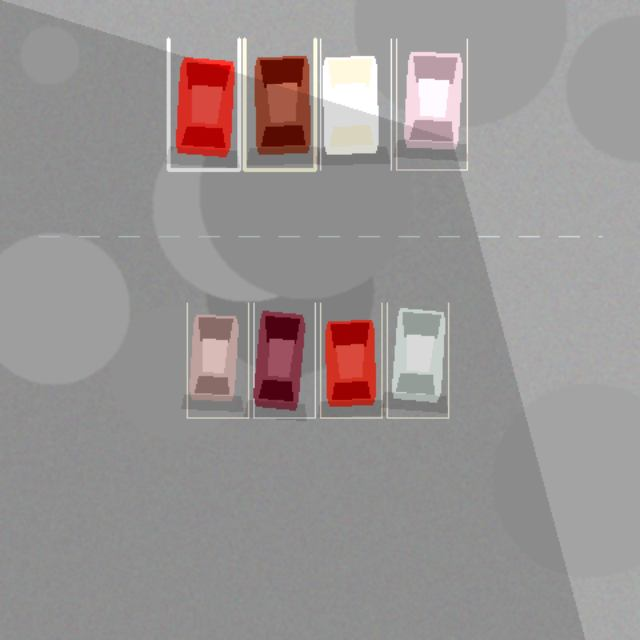space-occupied: (168, 39, 239, 169), (244, 39, 315, 169), (320, 39, 391, 169), (396, 39, 467, 169), (253, 303, 315, 417), (187, 303, 248, 417), (320, 303, 381, 417), (387, 303, 448, 417)
